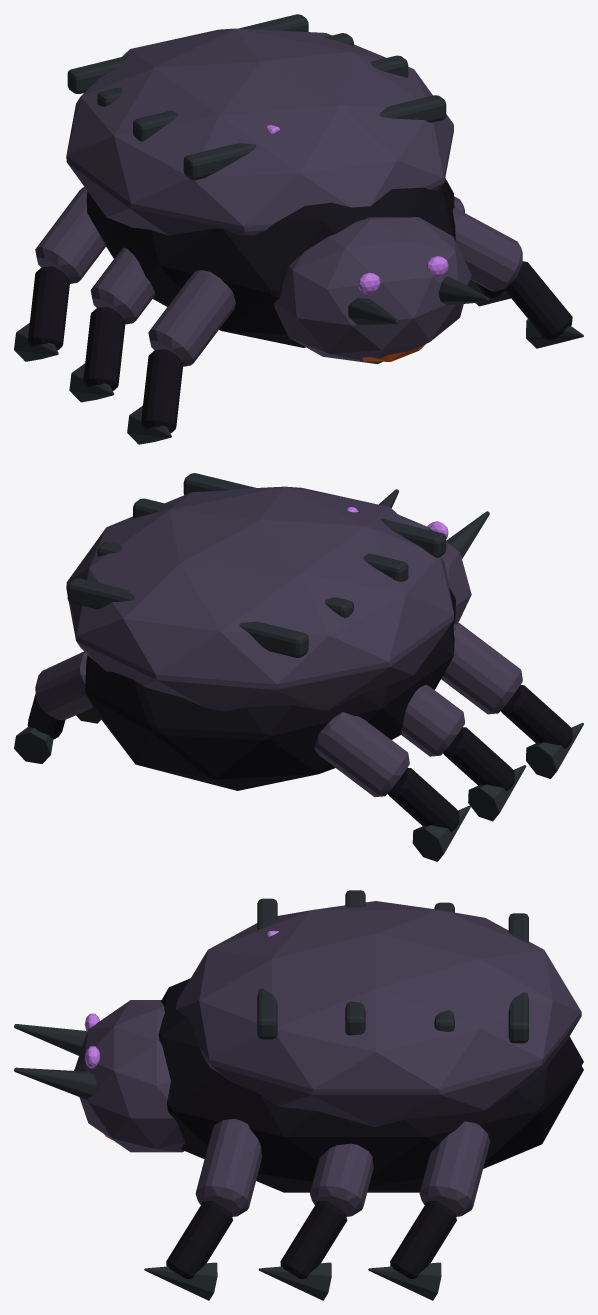
Rendered from Prismora_Guscione_V1.fbx.
3 renders of one model, top to bottom at view 1: azimuth 30°, elevation 25°; view 2: azimuth 150°, elevation 25°; view 3: azimuth 270°, elevation 25°, orthographic.
Parts seen in each view (by area): view 1: Guscione_Body, Guscione_Energy; view 2: Guscione_Body; view 3: Guscione_Body.
Part boxes in pixels (box(x1,y1,x2,y2)): Guscione_Body: box(14, 14, 583, 444); Guscione_Energy: box(267, 125, 448, 361); Guscione_Body: box(14, 473, 583, 861); Guscione_Body: box(14, 890, 583, 1300).
Size of the model in its own units: 4.3 by 2.59 by 4.99.
3 materials, 2 textured.
